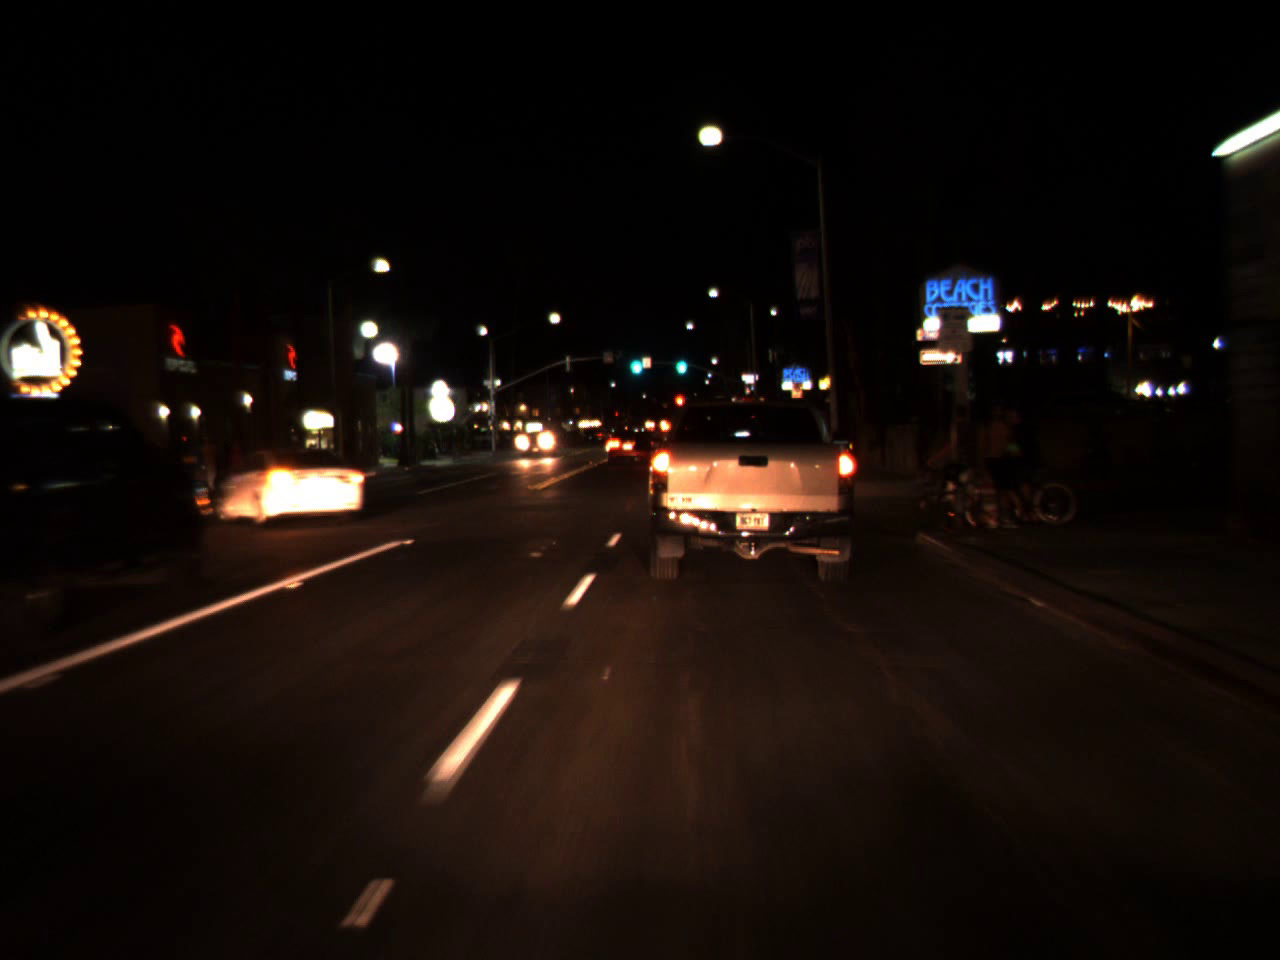go: (625, 343, 646, 379), (672, 345, 688, 378)
